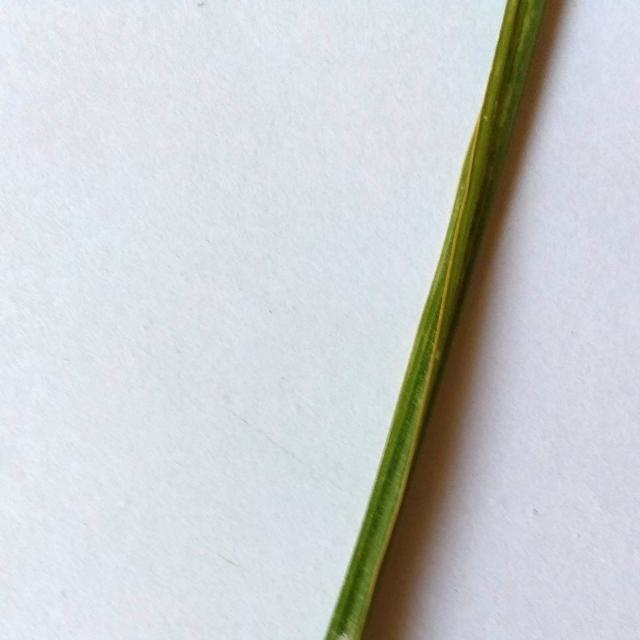Rice_Healthy: (324, 0, 545, 640)
